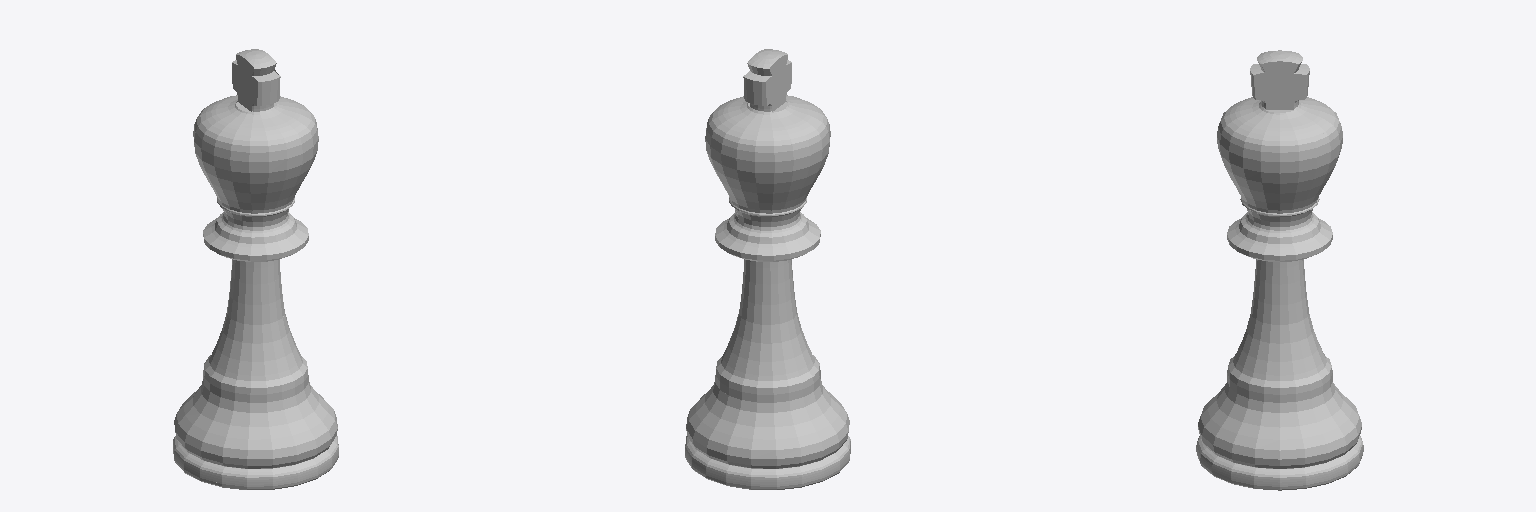
File: king_w.obj
3 views of the same model, side by side, from view 1: azimuth 30°, elevation 25°; view 2: azimuth 150°, elevation 25°; view 3: azimuth 270°, elevation 25° (orthographic).
Parts seen in each view (by area): view 1: king_w; view 2: king_w; view 3: king_w.
Part boxes in pixels (left/top/right/bottom): king_w: left=173, top=49, right=338, bottom=489; king_w: left=685, top=49, right=850, bottom=489; king_w: left=1196, top=50, right=1363, bottom=490.
Bounding box in the file's own units: 3.72 × 9.89 × 3.72.